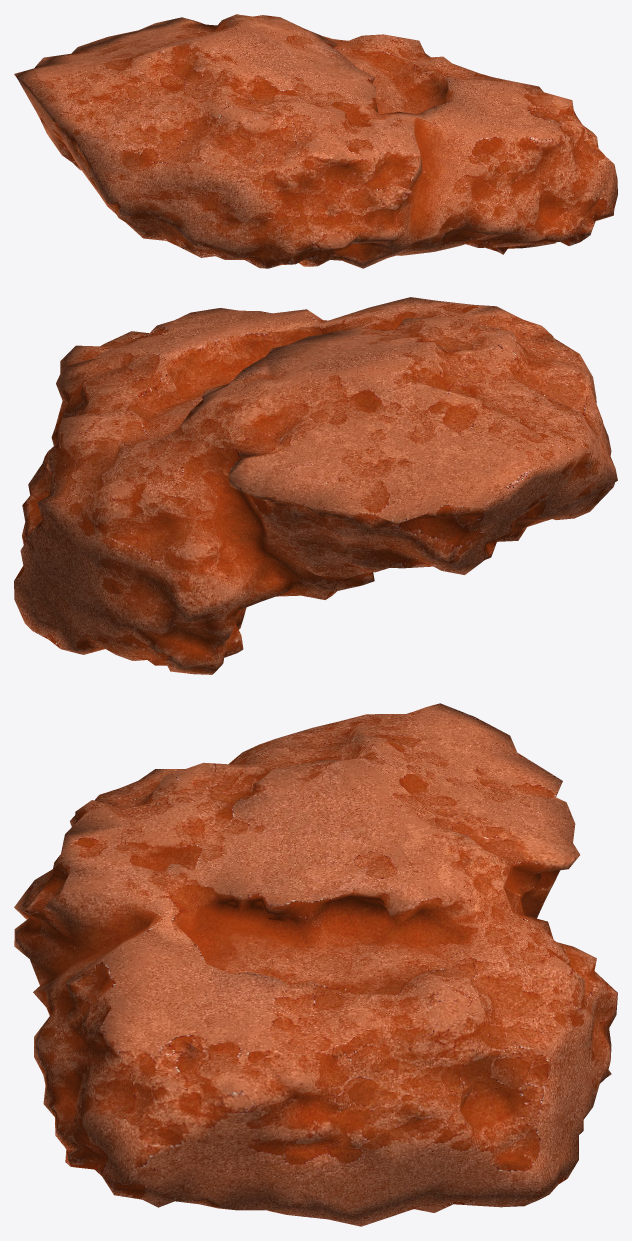
File: demo-rock.glb
3 views of the same model, one above another, from view 1: azimuth 30°, elevation 25°; view 2: azimuth 150°, elevation 25°; view 3: azimuth 270°, elevation 25° (orthographic). The views are drawn at different scales.
Visible parts, largest first — view 1: rock3_low; view 2: rock3_low; view 3: rock3_low.
Part boxes in pixels (x1,y1,x2,y2): rock3_low: (14,14,617,268); rock3_low: (14,297,617,674); rock3_low: (14,703,617,1226).
Size of the model in its own units: 5.36 by 2.45 by 4.55.
Materials: 1 (1 with a texture image).
